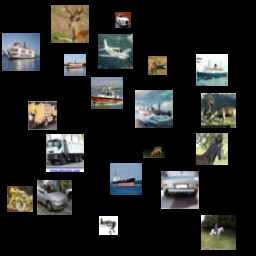airplane: (98, 34, 133, 69), (99, 216, 118, 235)
automobile: (161, 171, 199, 209), (37, 180, 72, 215), (115, 12, 131, 28)
deer: (51, 5, 89, 43), (201, 93, 236, 128), (143, 136, 165, 158), (148, 56, 167, 75)
frog: (7, 186, 33, 212)
ship: (135, 90, 173, 128), (2, 33, 40, 71), (110, 163, 142, 195), (91, 77, 123, 109), (196, 54, 228, 86), (64, 54, 86, 76)
